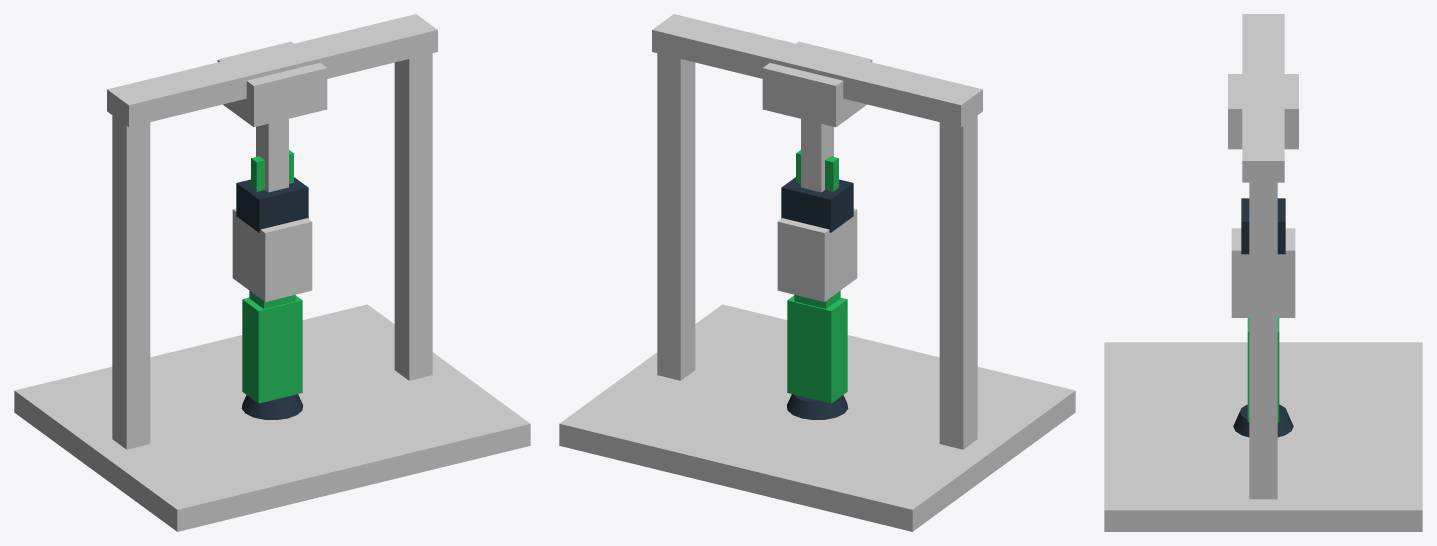
3 views of the same model, side by side, from view 1: azimuth 30°, elevation 25°; view 2: azimuth 150°, elevation 25°; view 3: azimuth 270°, elevation 25° (orthographic). The views are drawn at different scales.
Visible parts, largest first — view 1: base_frame_1, crossbeam_4, column_2, column_3, shoulder, gripper_head_7, housing_5, suctionTool, link_6, base; view 2: base_frame_1, crossbeam_4, column_2, column_3, shoulder, gripper_head_7, housing_5, suctionTool, link_6, base; view 3: base_frame_1, column_3, crossbeam_4, gripper_head_7, housing_5, suctionTool, base, shoulder.
Boxes of the visible parts, box(x1,y1,x2,y2) form: base_frame_1: box(14, 304, 530, 531); crossbeam_4: box(107, 14, 437, 127); column_2: box(112, 115, 150, 449); column_3: box(394, 53, 432, 380); shoulder: box(242, 295, 302, 403); gripper_head_7: box(232, 208, 312, 301); housing_5: box(217, 41, 327, 127); suctionTool: box(236, 177, 308, 232); link_6: box(256, 119, 288, 192); base: box(241, 394, 303, 419); base_frame_1: box(559, 304, 1075, 531); crossbeam_4: box(652, 14, 982, 127); column_2: box(939, 115, 977, 449); column_3: box(657, 53, 695, 380); shoulder: box(787, 295, 847, 403); gripper_head_7: box(777, 208, 857, 301); housing_5: box(762, 41, 872, 127); suctionTool: box(781, 177, 853, 232); link_6: box(801, 119, 833, 192); base: box(786, 394, 848, 419); base_frame_1: box(1104, 342, 1422, 531); column_3: box(1249, 182, 1277, 499); crossbeam_4: box(1242, 14, 1284, 182); gripper_head_7: box(1231, 228, 1295, 317); housing_5: box(1228, 74, 1298, 149); suctionTool: box(1241, 198, 1285, 254); base: box(1233, 404, 1293, 437); shoulder: box(1247, 318, 1279, 422).
Size of the model in its own units: 2.5 by 2.5 by 2.
